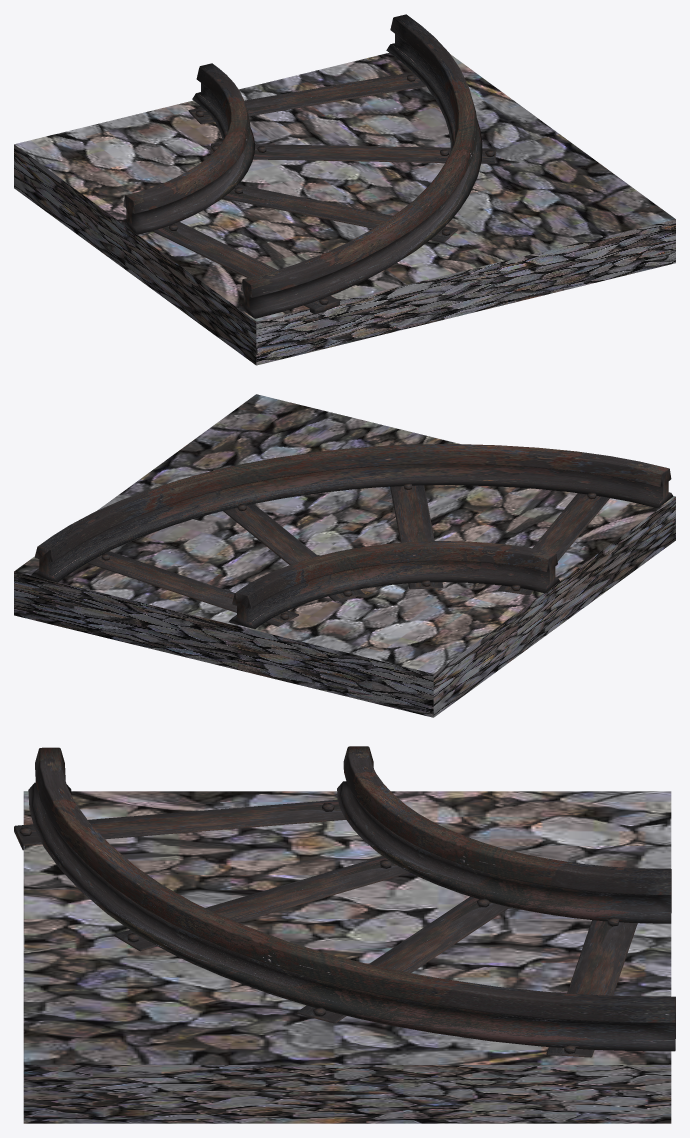
File: RAIL_CURVE.glb
3 views of the same model, one above another, from view 1: azimuth 30°, elevation 25°; view 2: azimuth 150°, elevation 25°; view 3: azimuth 270°, elevation 25° (orthographic). The views are drawn at different scales.
Parts seen in each view (by area): view 1: Cube.001, rayC; view 2: Cube.001, rayC; view 3: Cube.001, rayC.
Part boxes in pixels (<box>): Cube.001: <box>14,53,675,365</box>; rayC: <box>121,14,496,318</box>; Cube.001: <box>14,394,675,717</box>; rayC: <box>31,444,673,628</box>; Cube.001: <box>23,791,671,1123</box>; rayC: <box>14,746,675,1057</box>.
Size of the model in its own units: 16.1 by 2.79 by 16.37.
Materials: 2 (2 with a texture image).
